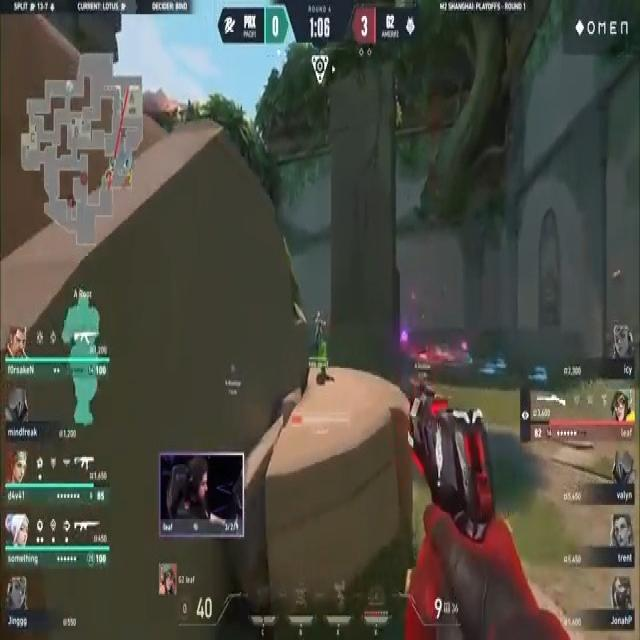ally: (313, 307, 327, 349)
